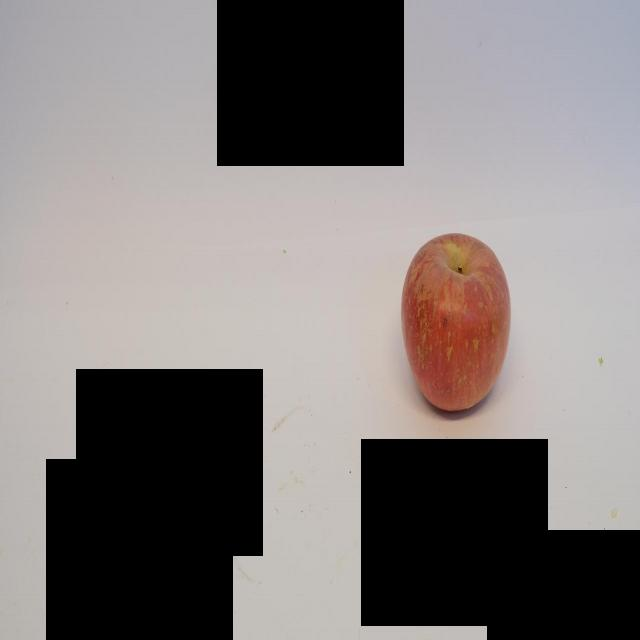apple: (398, 228, 514, 419)
